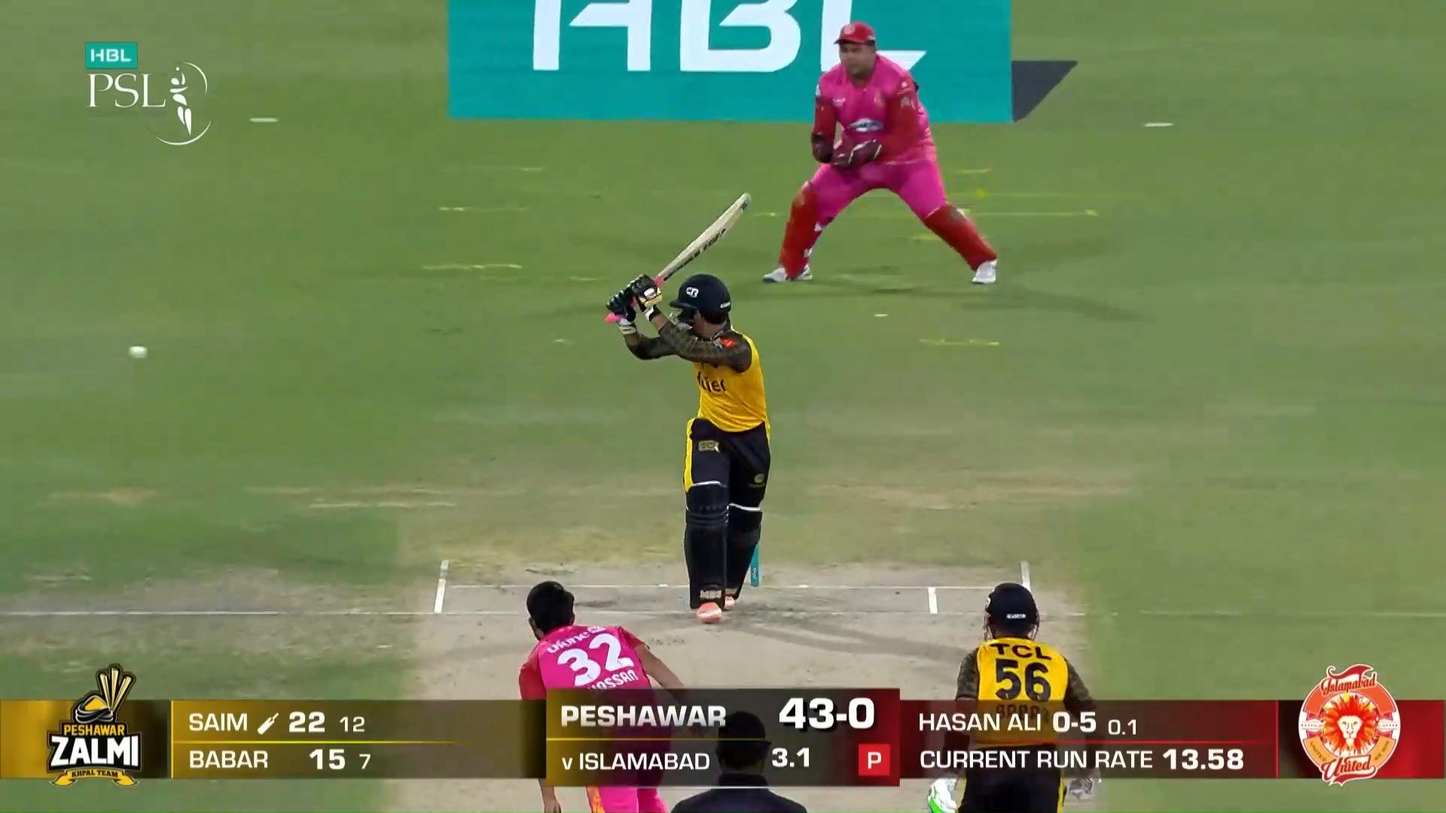batsman: (604, 192, 772, 625)
